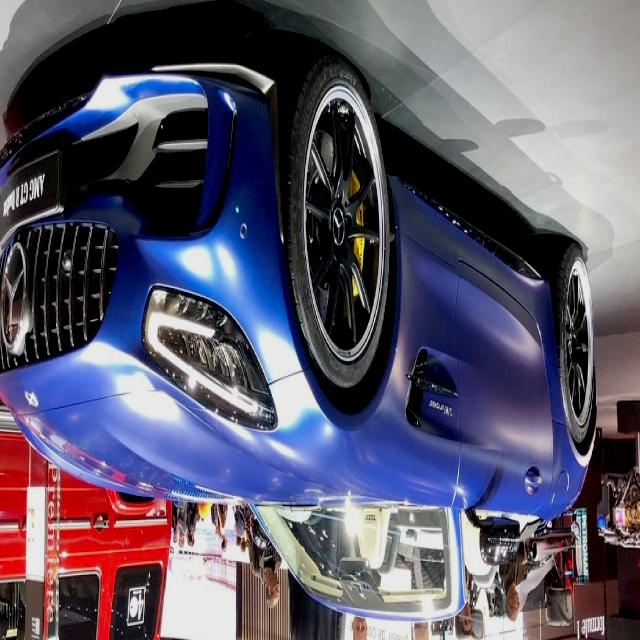blue: (0, 40, 598, 617)
